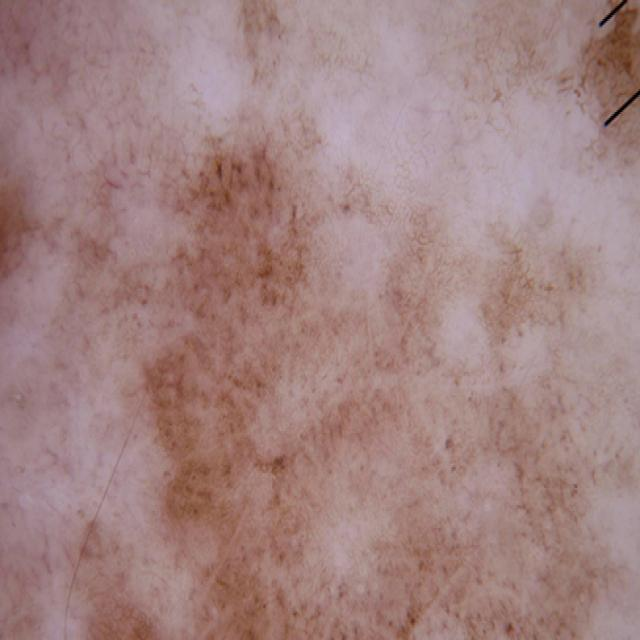Keratosis: (0, 85, 344, 434), (219, 355, 619, 640), (84, 585, 343, 640)
